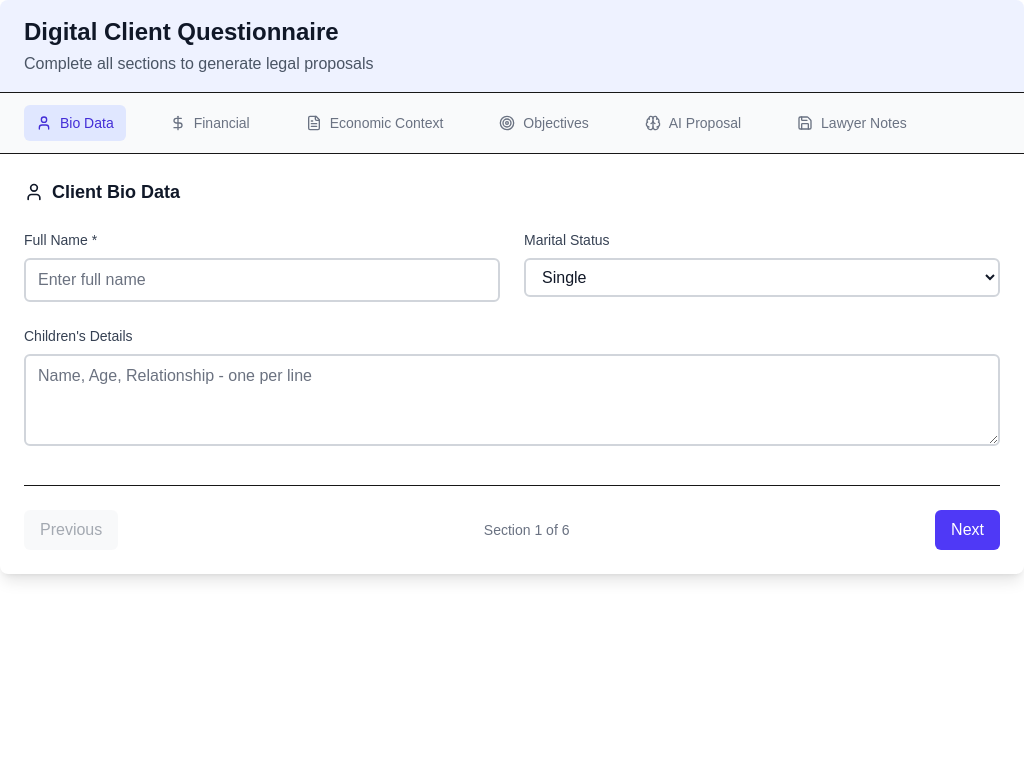
Test case: QuestionnaireForm › AI Proposal Section › displays AI proposal generation button
What coordinates should you click on to do the following:
click the button "AI Proposal"
I would click on:
 (693, 123)
Its box is [633, 105, 753, 141].
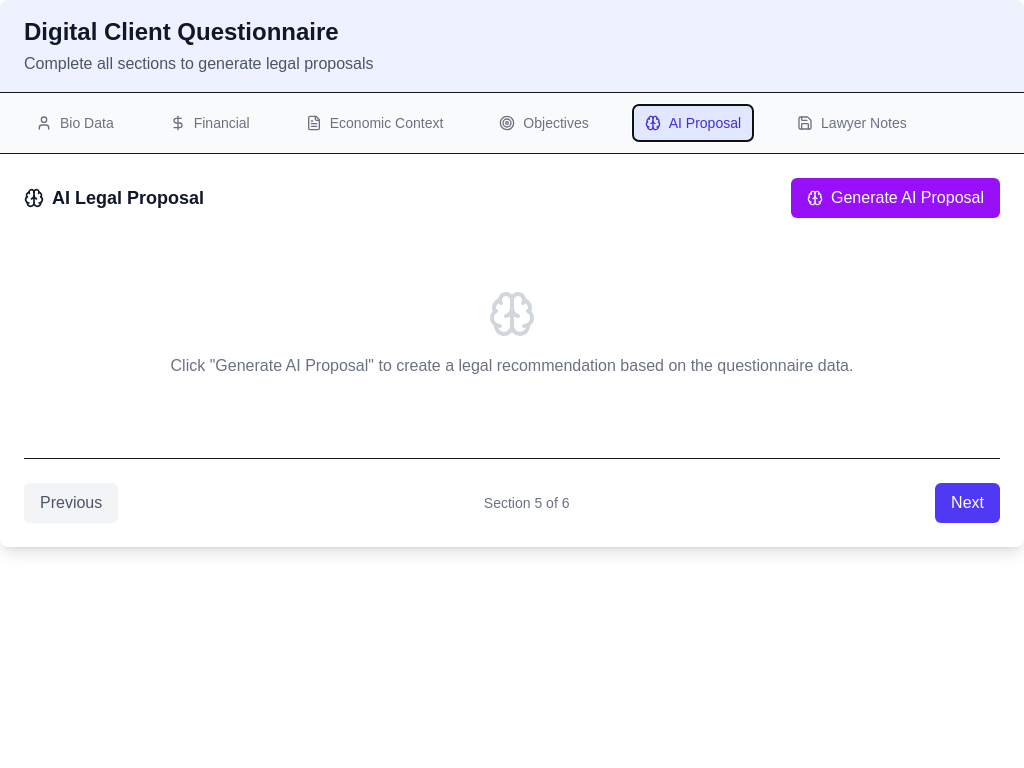
Now the text "Generate AI Proposal" is shown, box [831, 186, 984, 210]
